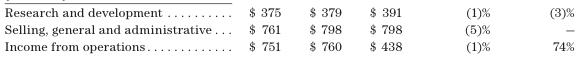table: (3, 4, 573, 53)
table column: (3, 4, 232, 53), (432, 4, 519, 53), (354, 4, 432, 53), (232, 4, 294, 53), (294, 4, 354, 53), (519, 4, 573, 53)
table column header: (3, 4, 573, 20)
table row: (3, 20, 573, 37), (3, 4, 573, 20), (3, 37, 573, 53)
